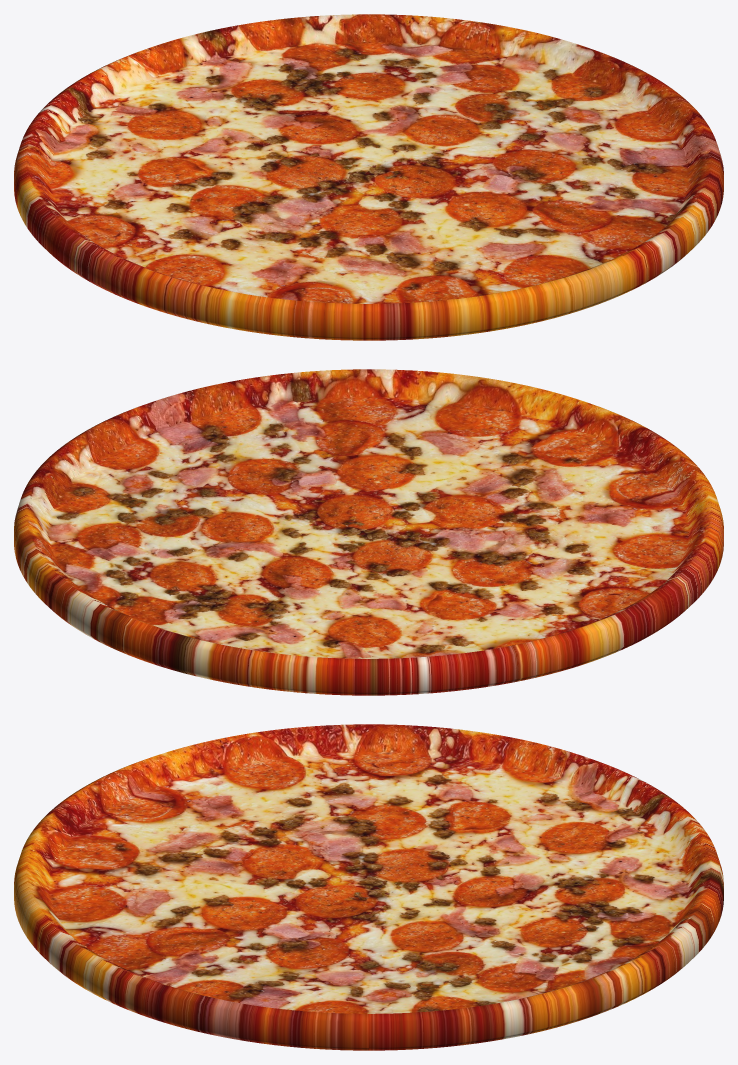
File: la-popi.glb
The picture shows the model from 3 angles, top to bottom: view 1: azimuth 30°, elevation 25°; view 2: azimuth 150°, elevation 25°; view 3: azimuth 270°, elevation 25°; orthographic projection.
Visible parts, largest first — view 1: pizza; view 2: pizza; view 3: pizza.
Part boxes in pixels (x1,y1,x2,y2): pizza: (14, 14, 723, 340); pizza: (14, 369, 723, 695); pizza: (14, 724, 723, 1050).
Bounding box in the file's own units: 0.4 × 0.023 × 0.4.
1 material, 1 textured.
